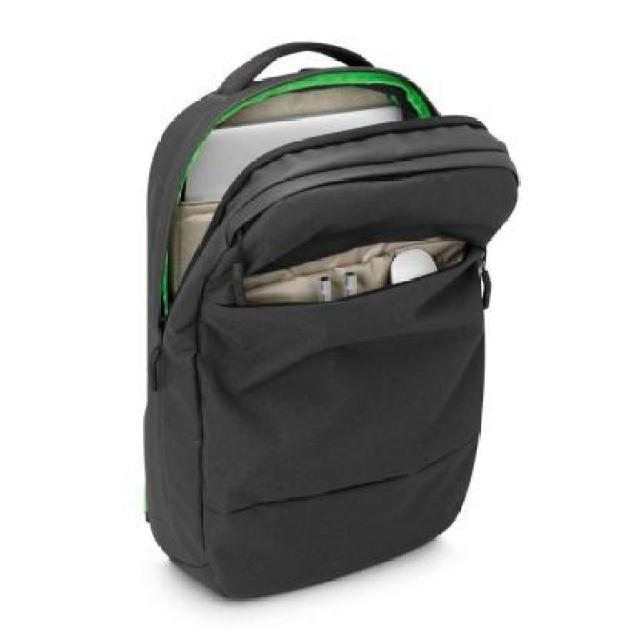backpack: (143, 40, 526, 606)
